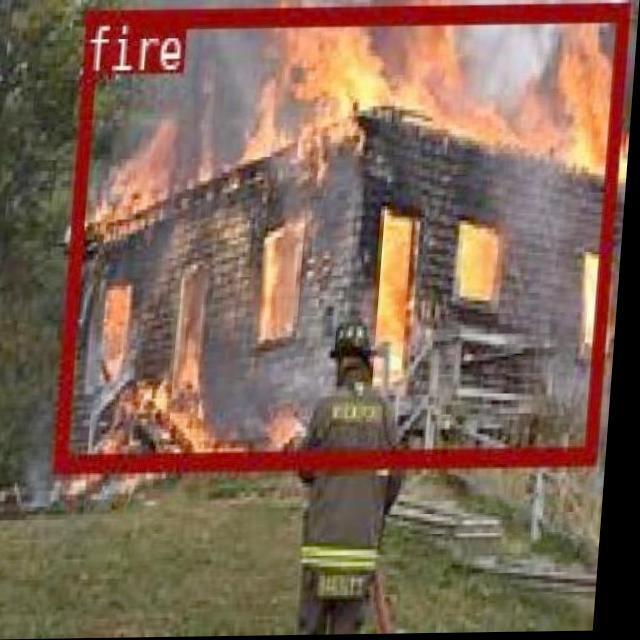Fire: (81, 2, 640, 202), (90, 252, 228, 437), (362, 218, 438, 344), (448, 222, 516, 298)
Smoke: (460, 0, 633, 424), (206, 0, 398, 322), (15, 296, 119, 514), (204, 338, 362, 446)
